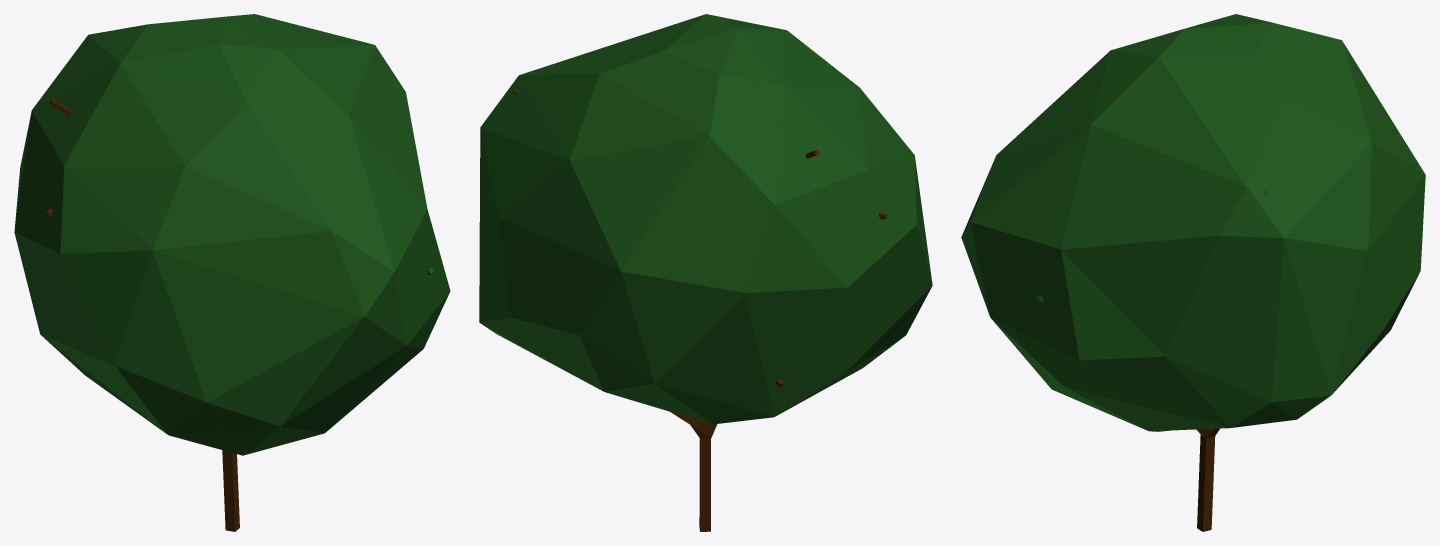
The model's file is tree5.fbx.
3 views of the same model, side by side, from view 1: azimuth 30°, elevation 25°; view 2: azimuth 150°, elevation 25°; view 3: azimuth 270°, elevation 25° (orthographic). The views are drawn at different scales.
Visible parts, largest first — view 1: Tree4; view 2: Tree4; view 3: Tree4.
Boxes of the visible parts, box(x1,y1,x2,y2) form: Tree4: box(14, 14, 450, 531); Tree4: box(479, 14, 932, 531); Tree4: box(961, 14, 1425, 531).
Size of the model in its own units: 2834 by 3598 by 3095.
